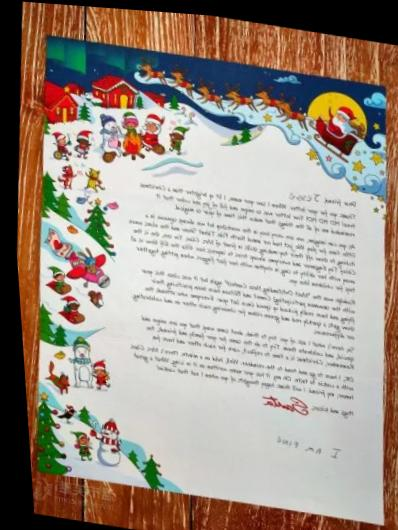paper: (19, 3, 397, 529)
